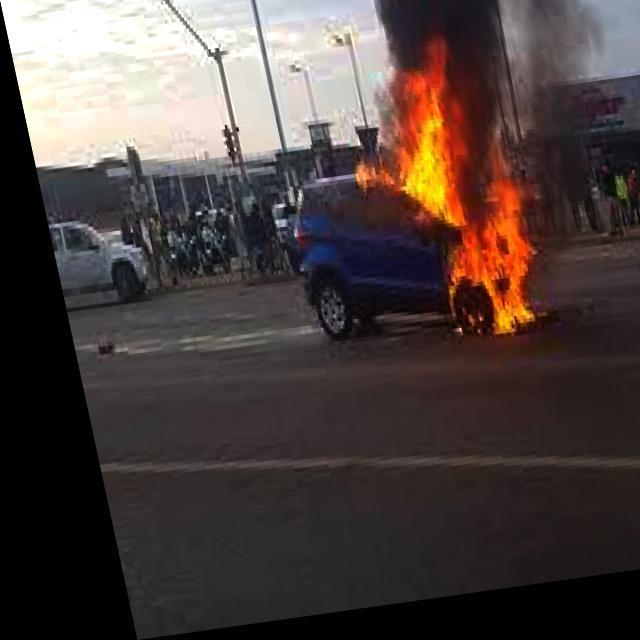Fire: (322, 47, 542, 370)
